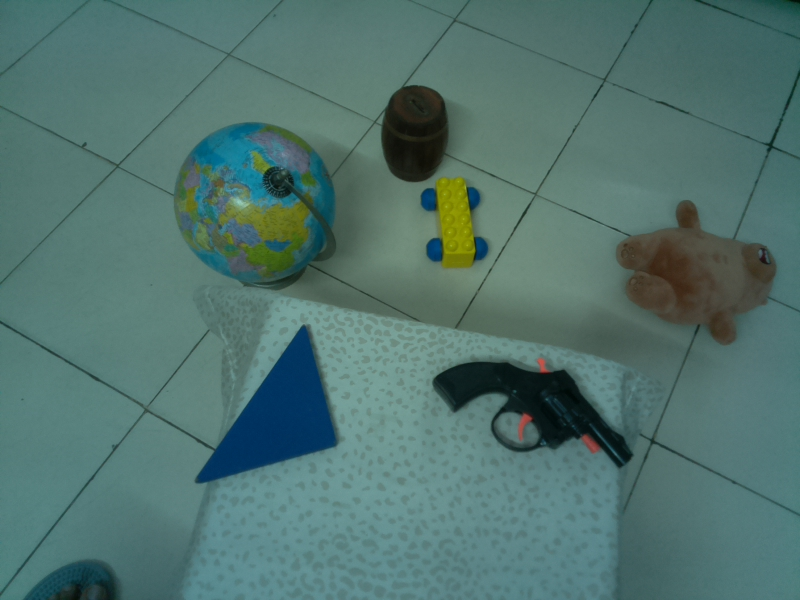Gun: (430, 354, 636, 475)
Triangle: (192, 322, 343, 488)
toy_Car: (419, 173, 494, 272)
